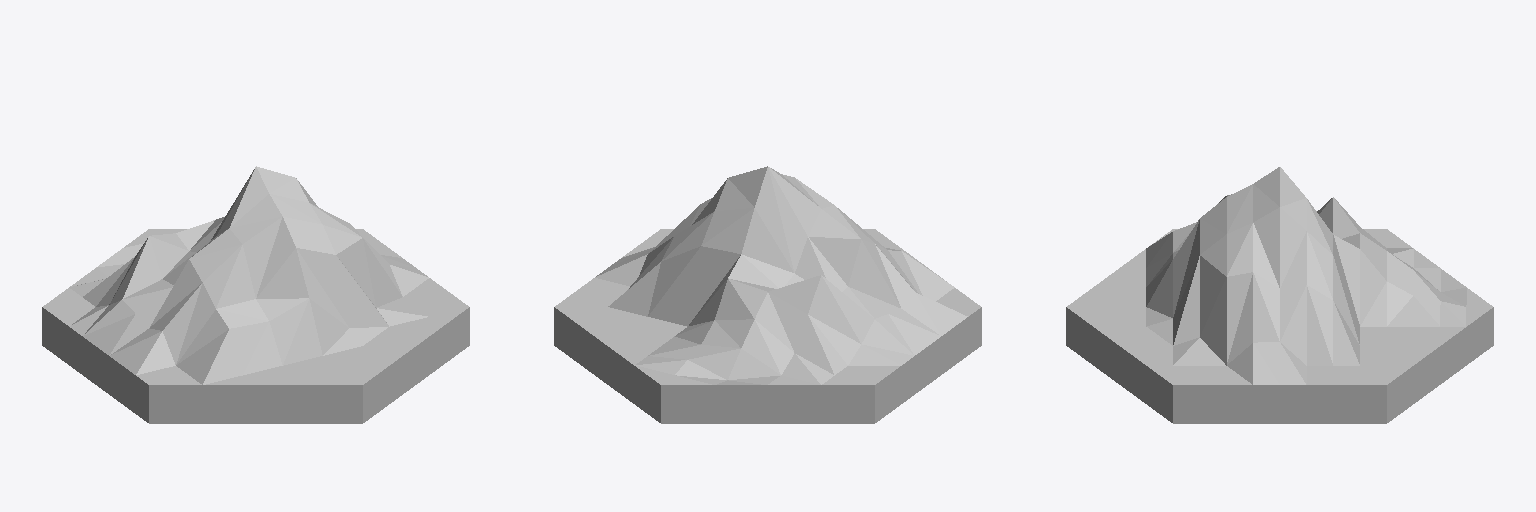
The model's file is mountain.obj.
3 views of the same model, side by side, from view 1: azimuth 30°, elevation 25°; view 2: azimuth 150°, elevation 25°; view 3: azimuth 270°, elevation 25° (orthographic).
Parts seen in each view (by area): view 1: Cylinder; view 2: Cylinder; view 3: Cylinder.
Part boxes in pixels (x1,y1,x2,y2): Cylinder: (42, 166, 469, 423); Cylinder: (554, 166, 981, 423); Cylinder: (1066, 167, 1493, 423).
Bounding box in the file's own units: 17.32 × 9.27 × 20.